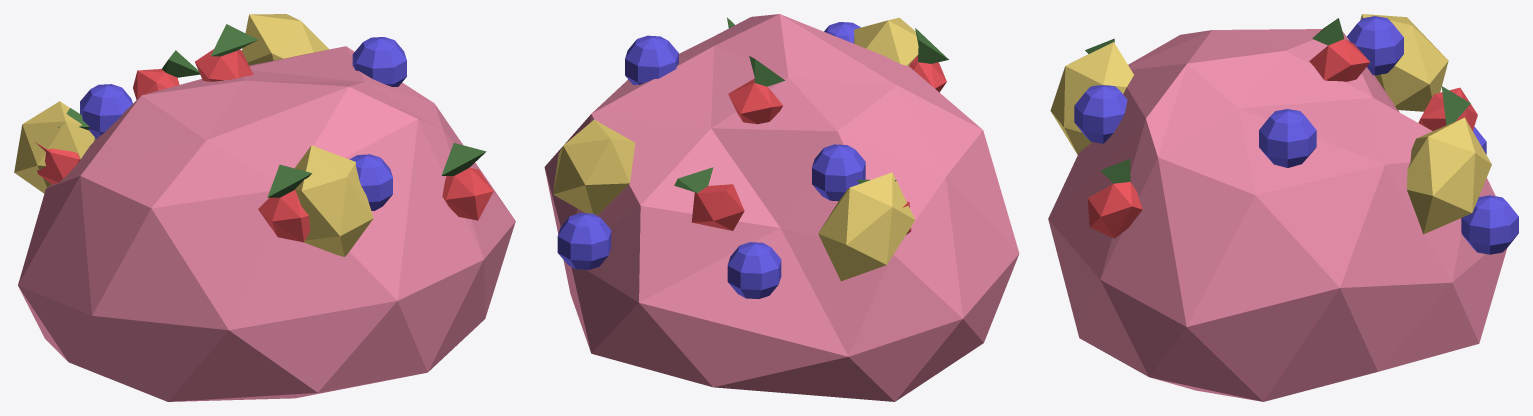
Rendered from Bush.fbx.
3 renders of one model, left to right at view 1: azimuth 30°, elevation 25°; view 2: azimuth 150°, elevation 25°; view 3: azimuth 270°, elevation 25°, orthographic. The views are drawn at different scales.
Visible parts, largest first — view 1: Bush, Lemons, strawberries, Blueberries; view 2: Bush, Lemons, Blueberries, strawberries; view 3: Bush, Lemons, Blueberries, strawberries.
Part boxes in pixels (x1=…): Bush: x1=18, y1=46, x2=515, y2=401; Lemons: x1=14, y1=14, x2=373, y2=256; strawberries: x1=35, y1=24, x2=493, y2=242; Blueberries: x1=80, y1=37, x2=406, y2=210; Bush: x1=544, y1=14, x2=1019, y2=401; Lemons: x1=553, y1=17, x2=918, y2=281; Blueberries: x1=557, y1=22, x2=865, y2=298; strawberries: x1=674, y1=17, x2=948, y2=234; Bush: x1=1048, y1=29, x2=1507, y2=401; Lemons: x1=1050, y1=14, x2=1491, y2=234; Blueberries: x1=1074, y1=16, x2=1518, y2=254; strawberries: x1=1085, y1=18, x2=1477, y2=238.
Bounding box in the file's own units: 293 × 207 × 274.
